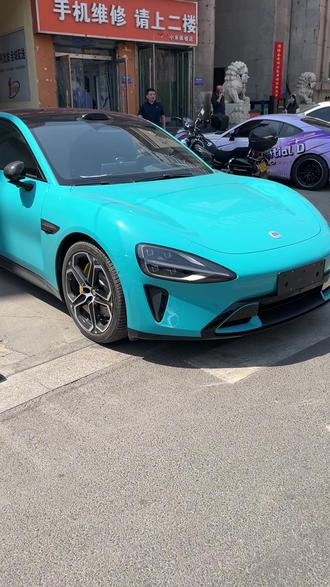su7: (0, 116, 329, 346)
